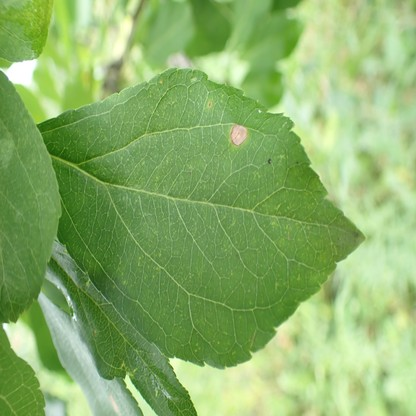frogeye_leaf_spot: (229, 123, 247, 145)
